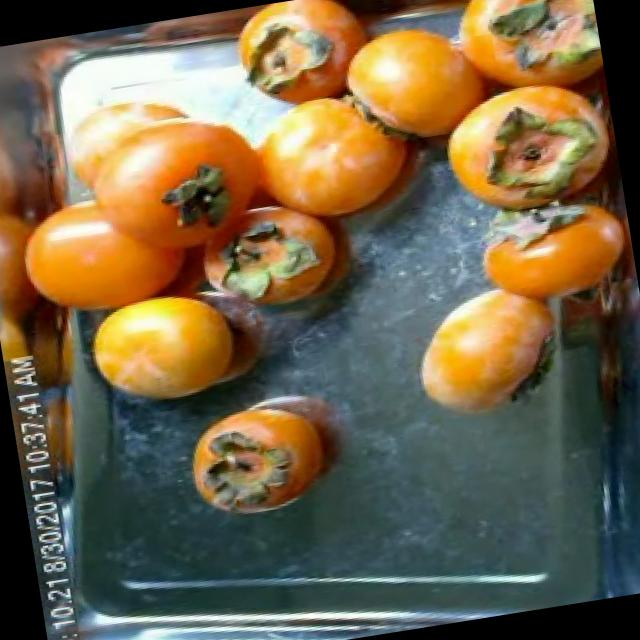Fruit: (416, 70, 626, 236), (394, 268, 580, 434), (63, 276, 264, 428), (169, 384, 367, 536)
